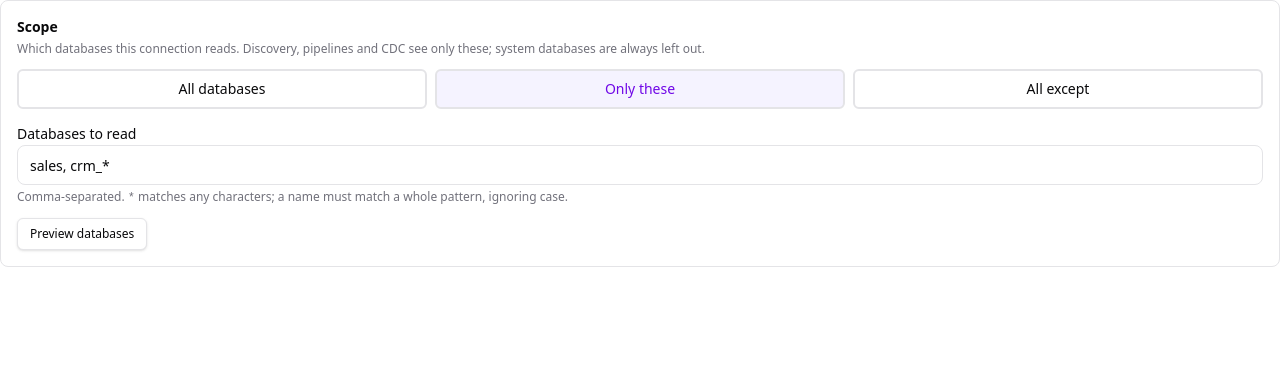
Test case: ConnectionScopeSection › previews what the patterns keep from the names the connector lists
Click the button "Preview databases". click: click(82, 234)
box: [17,218,147,250]
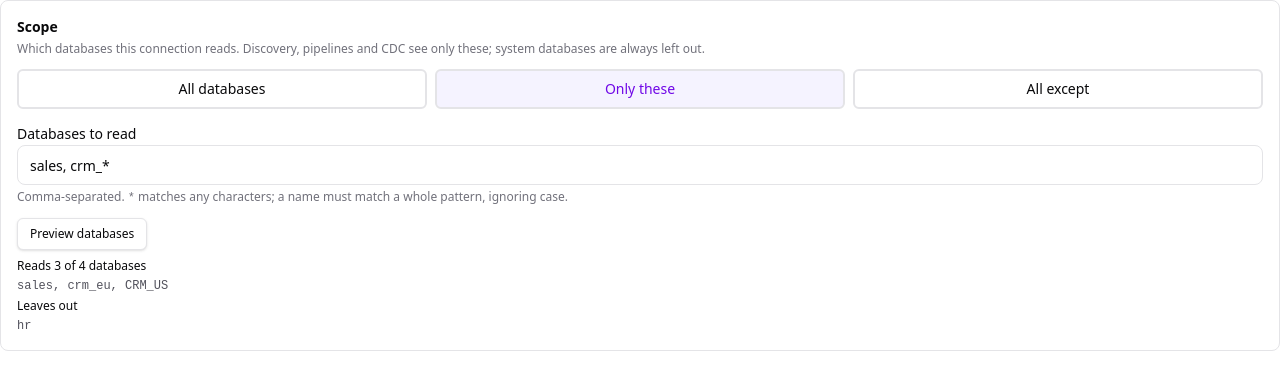
expect the element with test id "connection-scope-preview" is shown: met, box [17,257,168,333]
expect the text "Reads 3 of 4 databases" is shown: met, box [17,257,146,274]
expect the text with test id "connection-scope-kept" reads "sales, crm_eu, CRM_US": met, box [17,279,168,293]
// The preview follows the patterns without listing again.
Replace the text in the field labelled "Databases to read" with "hr". click: (640, 165)
box: [17,145,1263,185]
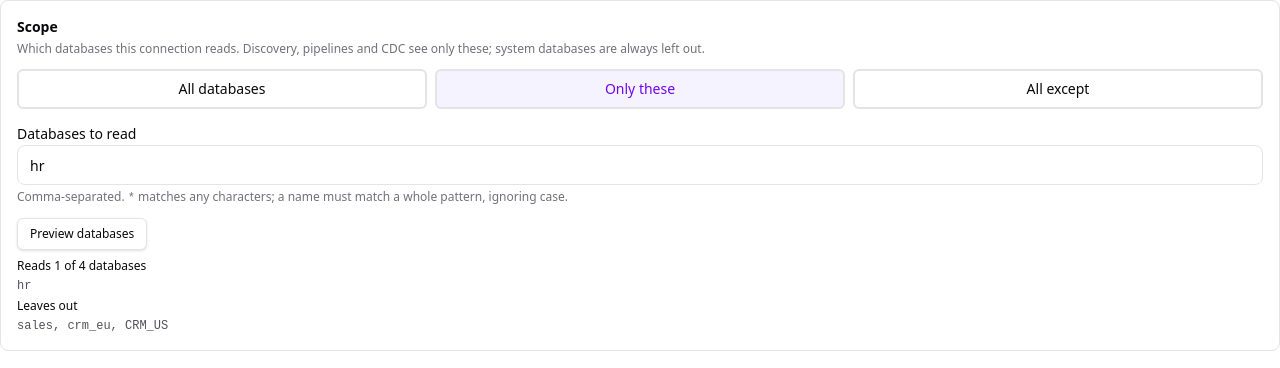
expect the text "Reads 1 of 4 databases" is shown: met, box [17,257,146,274]
